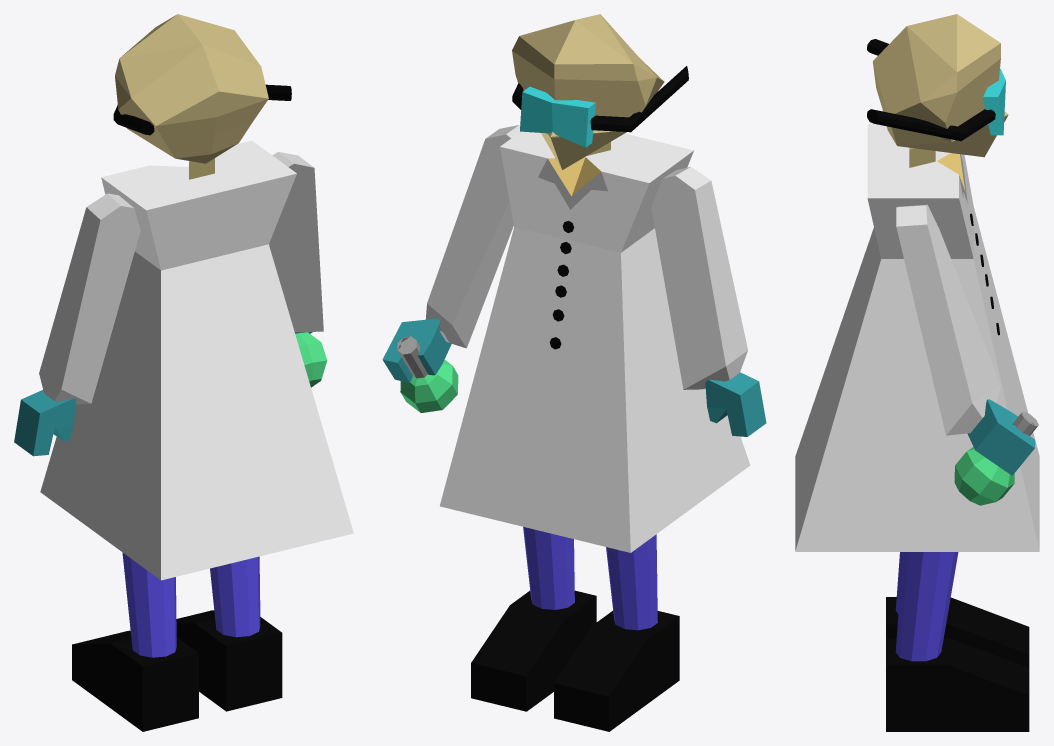
Rendered from LabAssitant.glb.
3 views of the same model, side by side, from view 1: azimuth 30°, elevation 25°; view 2: azimuth 150°, elevation 25°; view 3: azimuth 270°, elevation 25° (orthographic). The views are drawn at different scales.
Visible parts, largest first — view 1: Chest, shose, Arms, Plane, Hand, Sphere, googues; view 2: Chest, shose, Arms, Plane, Hand, googues, Sphere, Cylinder; view 3: Chest, shose, Plane, Arms, googues, Hand, Sphere, neck.
Boxes of the visible parts, x1,y1,x2,y2 form: Chest: (40, 140, 353, 580); shose: (72, 552, 282, 731); Arms: (39, 151, 323, 404); Plane: (115, 14, 268, 163); Hand: (14, 332, 312, 456); Sphere: (295, 332, 327, 387); googues: (113, 84, 291, 135); Chest: (440, 131, 750, 552); shose: (471, 527, 679, 731); Arms: (425, 125, 747, 389); Plane: (512, 14, 664, 169); Hand: (382, 318, 766, 436); googues: (512, 66, 688, 147); Sphere: (397, 336, 458, 412); Cylinder: (549, 221, 574, 349); Chest: (795, 124, 1039, 551); shose: (886, 552, 1029, 731); Plane: (872, 14, 1008, 157); Arms: (896, 204, 1000, 435); googues: (867, 39, 1005, 141); Hand: (967, 399, 1035, 475); Sphere: (954, 411, 1038, 505); neck: (909, 147, 935, 167).
Bounding box in the file's own units: 4.87 × 9.59 × 3.11.
